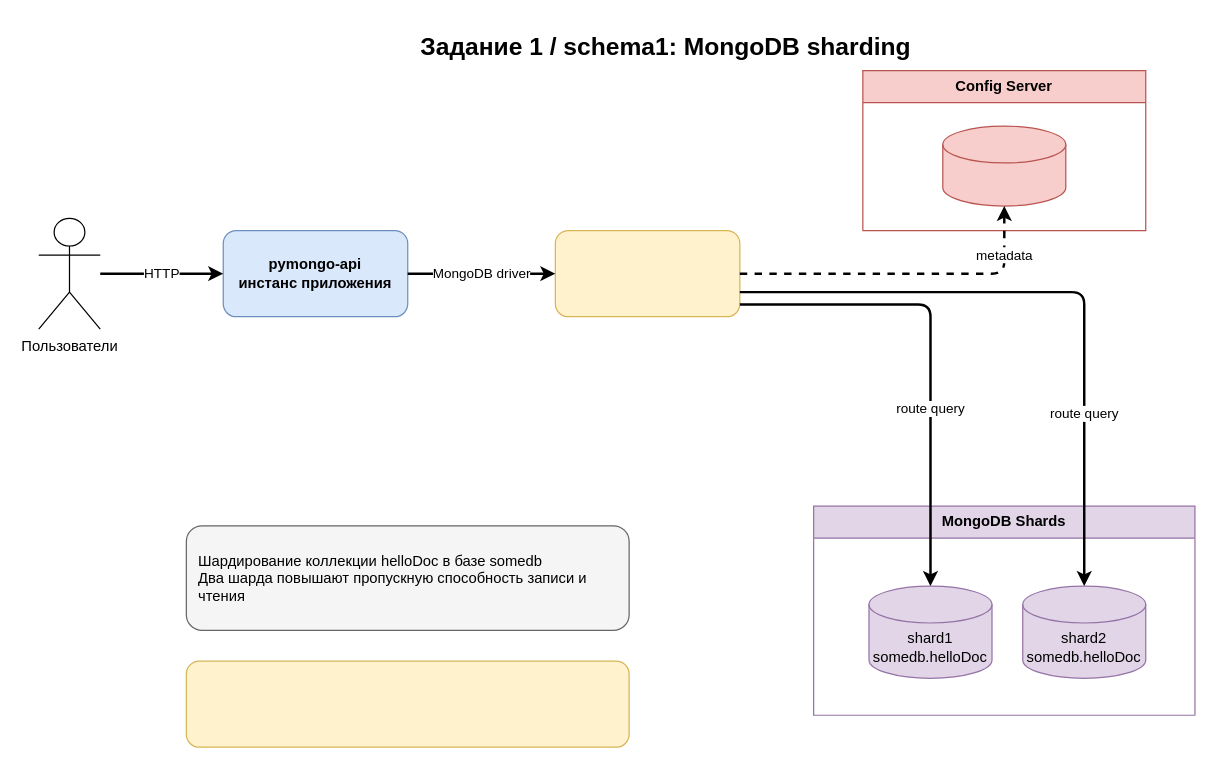
This 1216x769 diagram has some shape labels left out. Here are the shapes that lost their labels. From the top down, the centre of each, then its label:
At (1004,165): "configSrv metadata".
At (647,273): "mongos query router".
At (407,703): "Сплошные стрелки: пользовательский и DB-трафик Пунктир: metadata".
